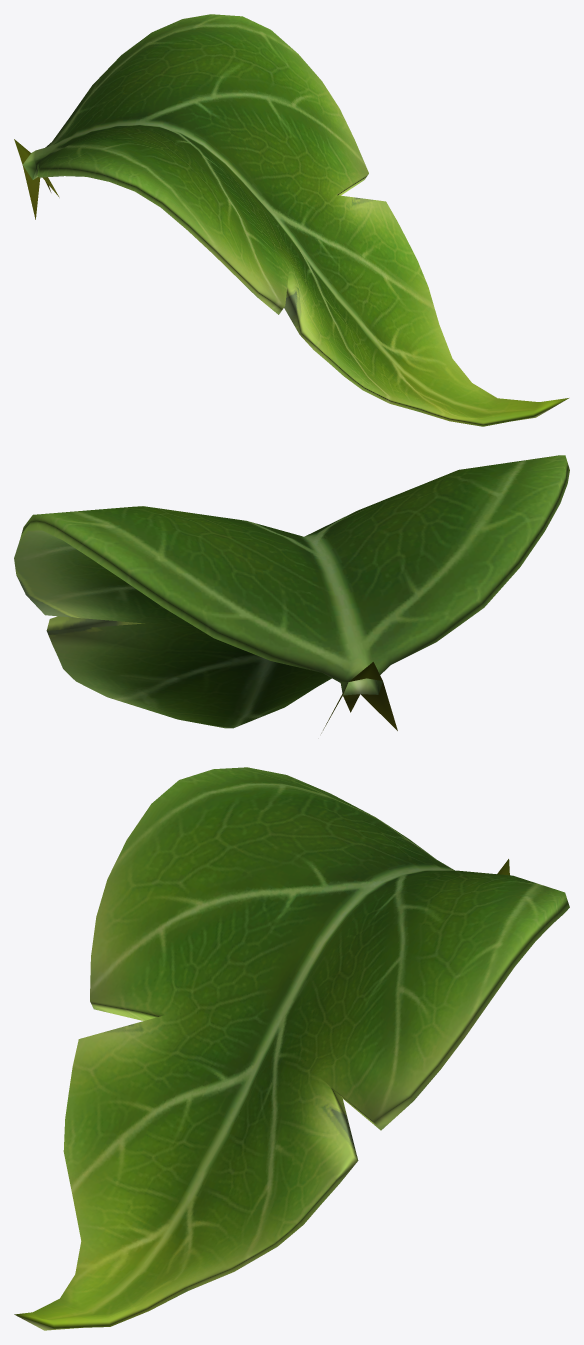
File: peashooter_hoja_del_izq.obj
The picture shows the model from 3 angles, top to bottom: view 1: azimuth 30°, elevation 25°; view 2: azimuth 150°, elevation 25°; view 3: azimuth 270°, elevation 25°; orthographic projection. The views are drawn at different scales.
Visible parts, largest first — view 1: peashooter_hoja_del_izq; view 2: peashooter_hoja_del_izq; view 3: peashooter_hoja_del_izq.
Boxes of the visible parts, x1=… form: peashooter_hoja_del_izq: x1=14, y1=14, x2=568, y2=426; peashooter_hoja_del_izq: x1=14, y1=455, x2=569, y2=733; peashooter_hoja_del_izq: x1=14, y1=767, x2=569, y2=1330.
Size of the model in its own units: 0.3794 by 0.2728 by 0.3792.
